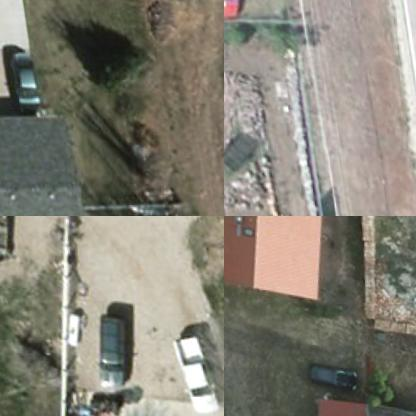boat: (0, 216, 19, 261)
car: (88, 309, 135, 386), (4, 45, 35, 112), (304, 354, 356, 388)
pickup: (170, 330, 212, 412)
